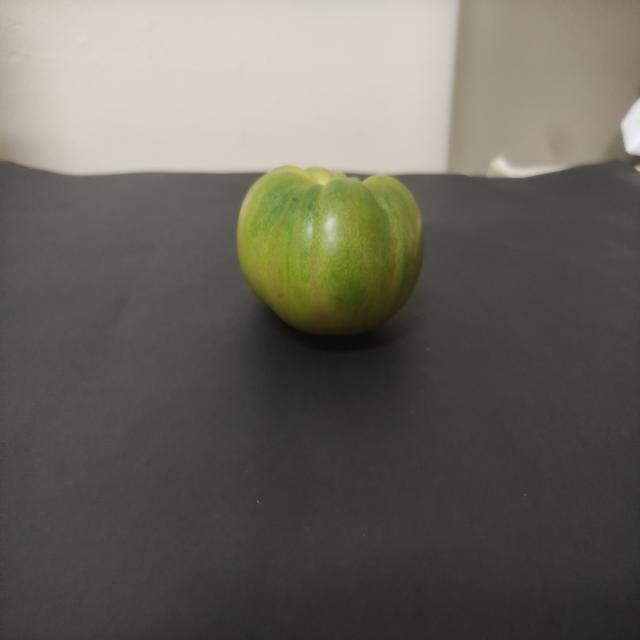yesil: (219, 138, 444, 347)
